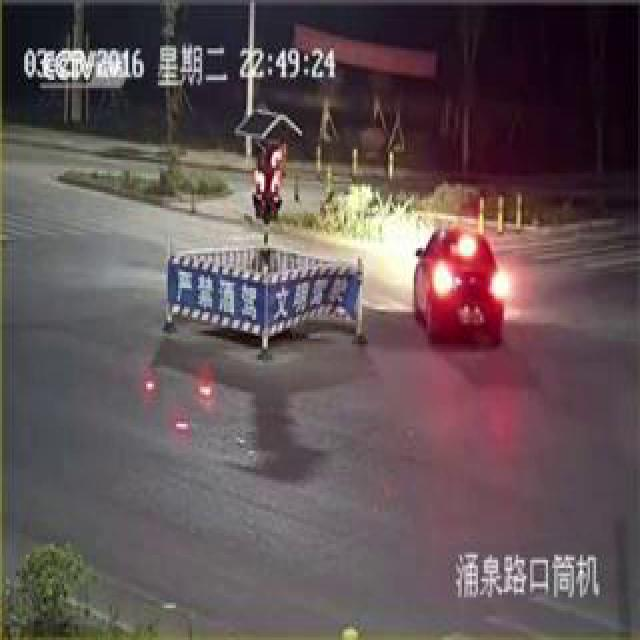vandalism: (66, 55, 556, 456), (281, 151, 622, 527)
